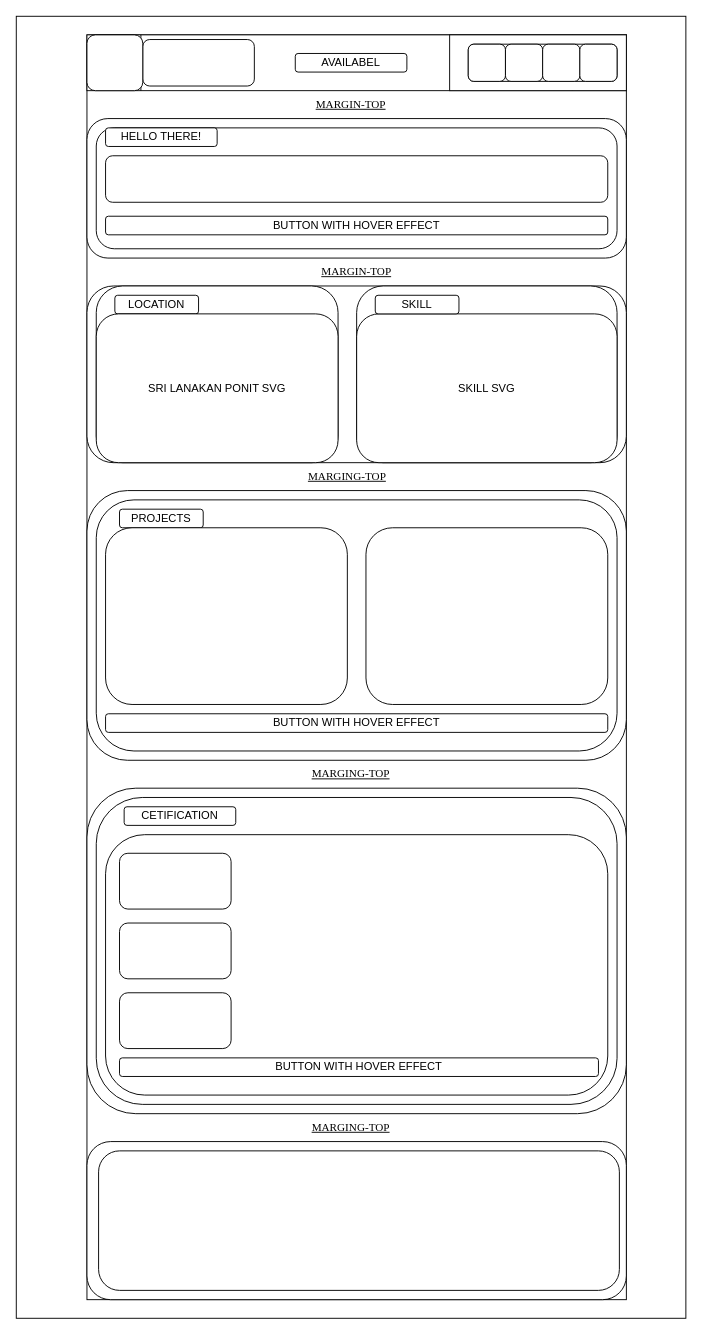
Image size: 702x1335. Some labels were removed from this diagram. Each missing label, with the centre of its shape:
LETS TALK: point 358,1220
NAME AND POSSITION: point 198,62
PARAGARAPH: point 356,178
PHOTO: point 114,62
